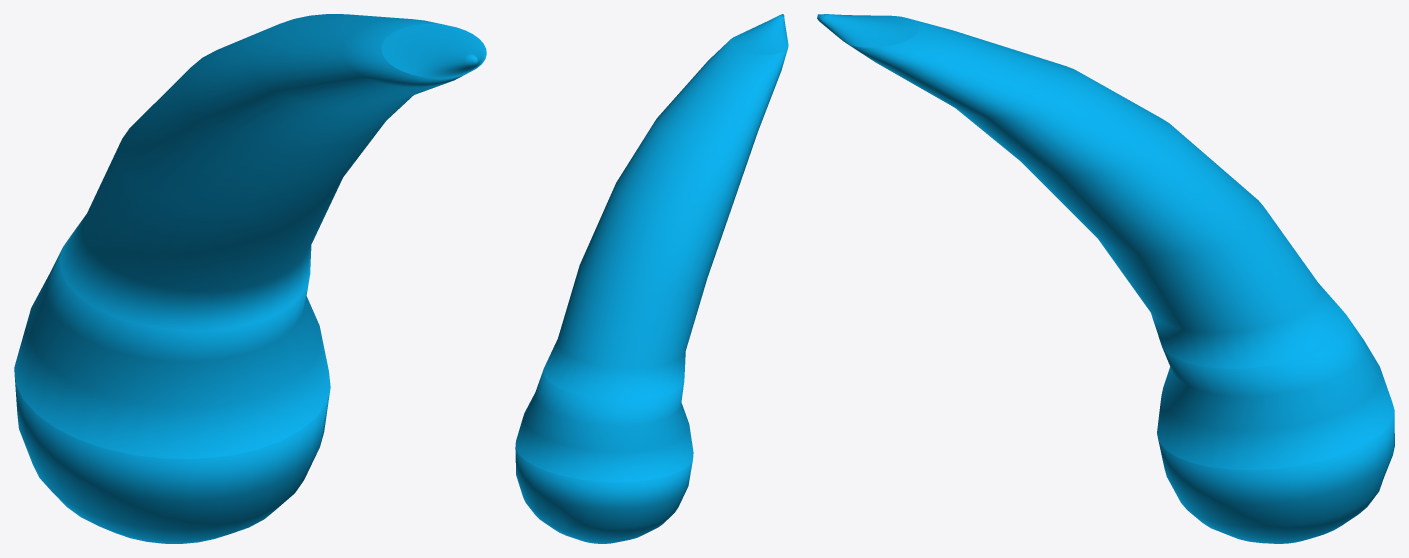
The model's file is meeple-arm.glb.
The picture shows the model from 3 angles, left to right: view 1: azimuth 30°, elevation 25°; view 2: azimuth 150°, elevation 25°; view 3: azimuth 270°, elevation 25°; orthographic projection. The views are drawn at different scales.
Parts seen in each view (by area): view 1: Cylinder.001; view 2: Cylinder.001; view 3: Cylinder.001.
Boxes of the visible parts, box(x1,y1,x2,y2) form: Cylinder.001: box(14, 14, 486, 543); Cylinder.001: box(515, 14, 788, 543); Cylinder.001: box(817, 14, 1394, 543).
Size of the model in its own units: 0.4779 by 1.17 by 1.18.
